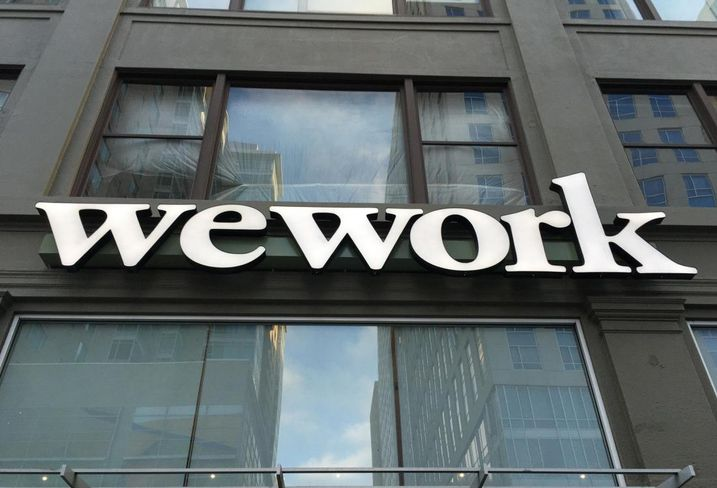wework: (32, 168, 701, 281)
